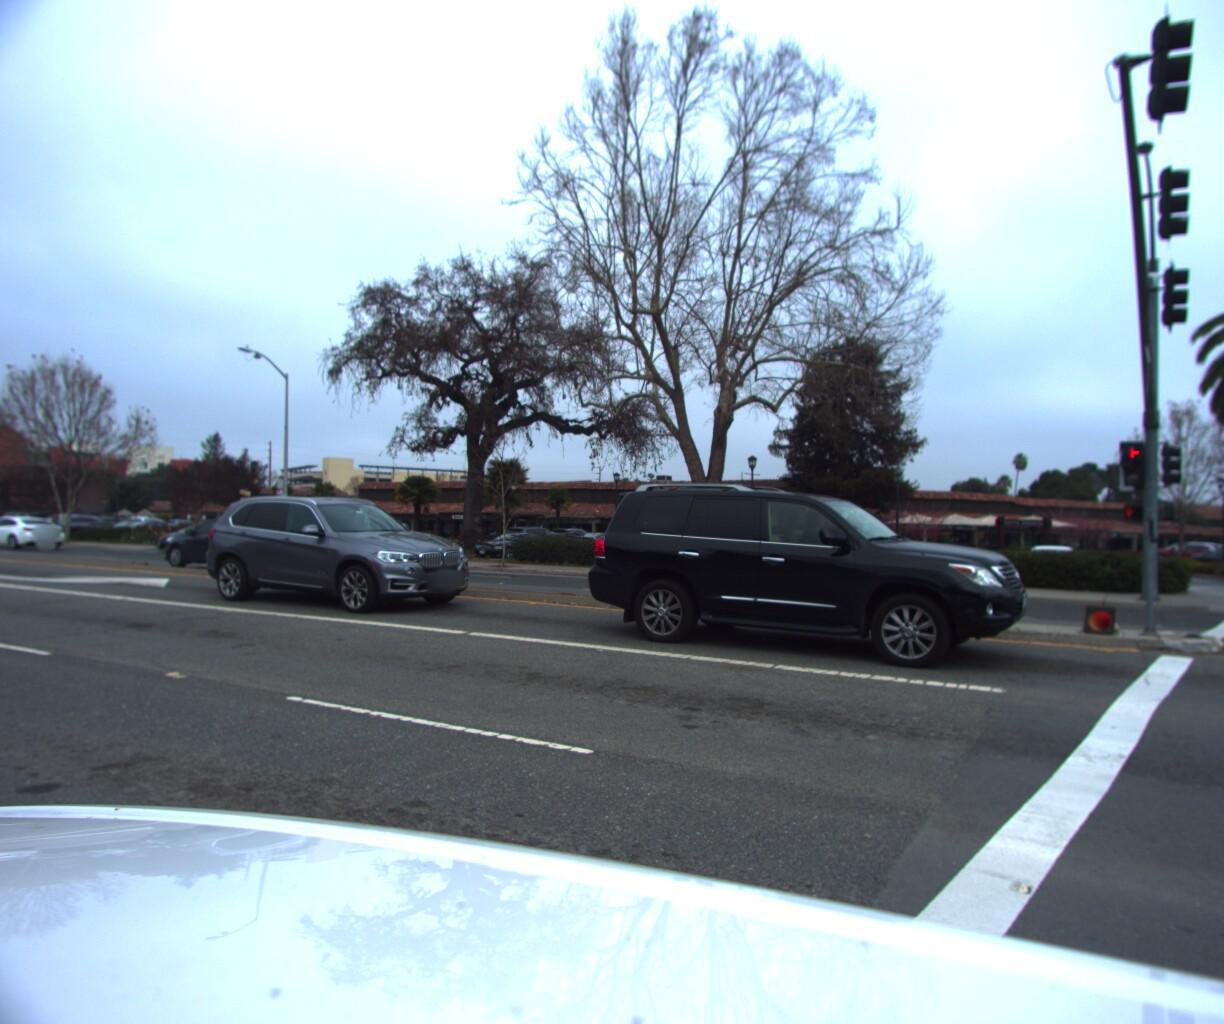car: (569, 475, 1039, 676), (191, 492, 484, 612), (144, 520, 311, 577), (1012, 539, 1083, 594)
